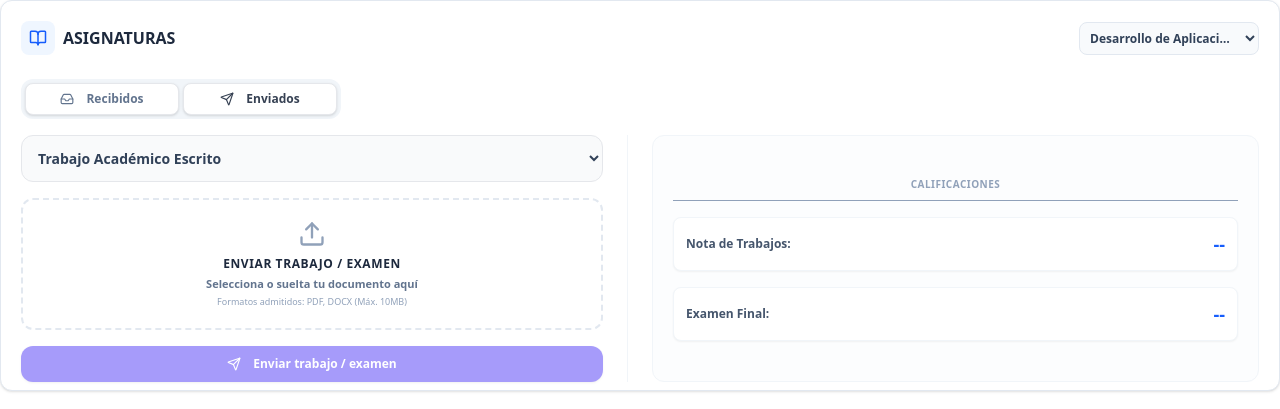
Test: CourseAssignmentPanel - Suite de Pruebas Unitarias [ADR-47] › debe conmutar a RECIBIDOS y mostrar loading seguido de bandeja vacía
Click the button "Recibidos".
click(102, 99)  # box [25,83,179,115]
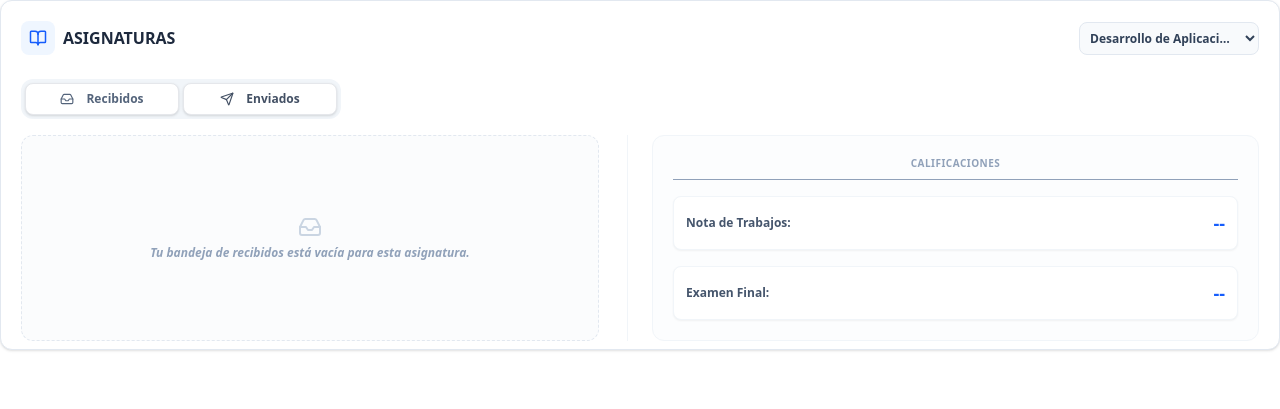
Expected: the button "Enviados" is shown, [183,83,337,115]
Expected: the text "Tu bandeja de recibidos está vacía para esta asignatura." is shown, [150,244,470,261]
